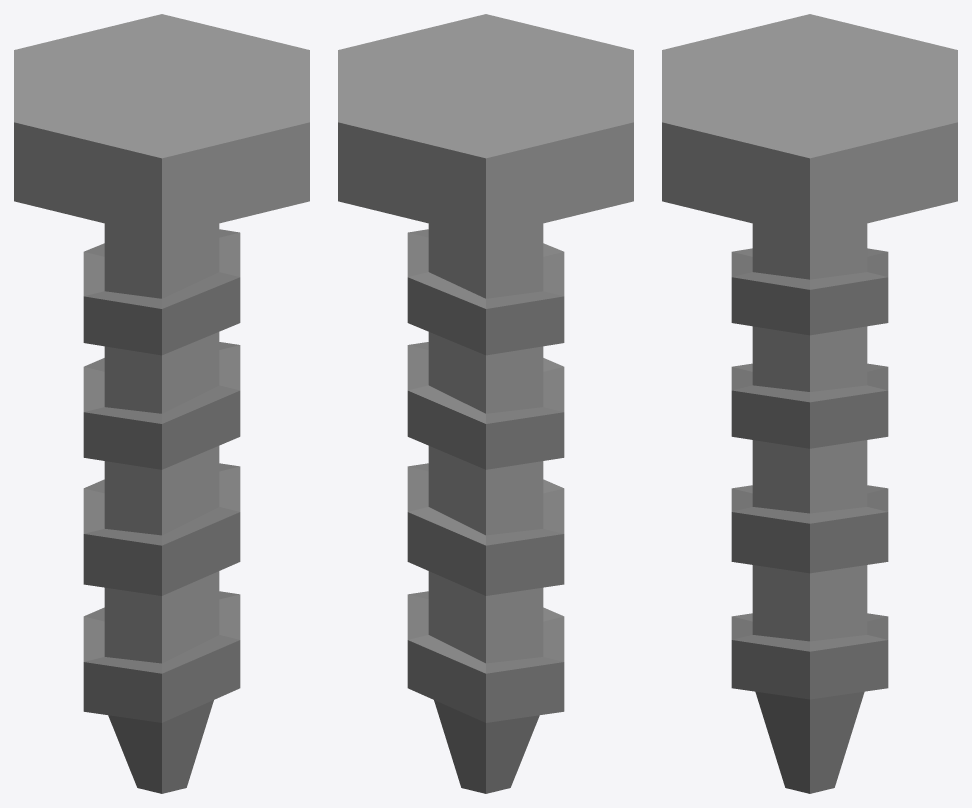
The model's file is Screw.fbx.
The picture shows the model from 3 angles, left to right: view 1: azimuth 30°, elevation 25°; view 2: azimuth 150°, elevation 25°; view 3: azimuth 270°, elevation 25°; orthographic projection.
Parts seen in each view (by area): view 1: Screw; view 2: Screw; view 3: Screw.
Boxes of the visible parts, x1,y1,x2,y2 form: Screw: (14,14,309,793); Screw: (338,14,633,793); Screw: (662,14,957,793).
Size of the model in its own units: 11.14 by 25.03 by 9.65.
1 material, 1 textured.
